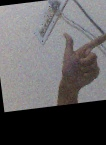hand: (60, 31, 106, 91)
